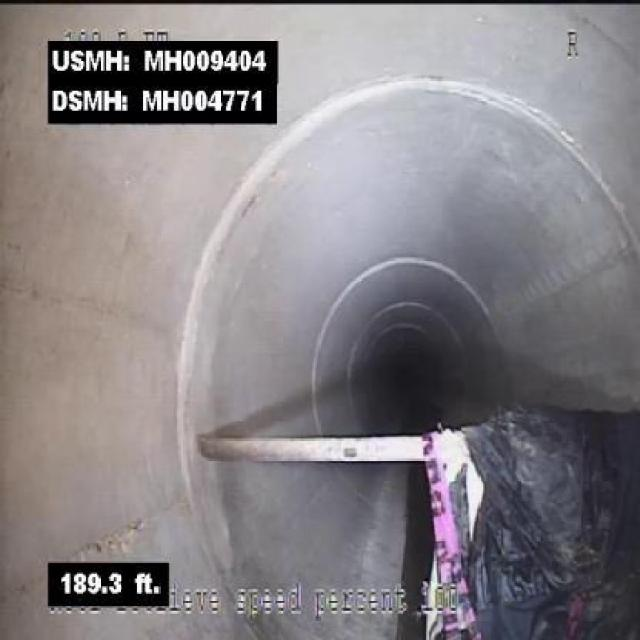Utility intrusion: (197, 426, 431, 469)
